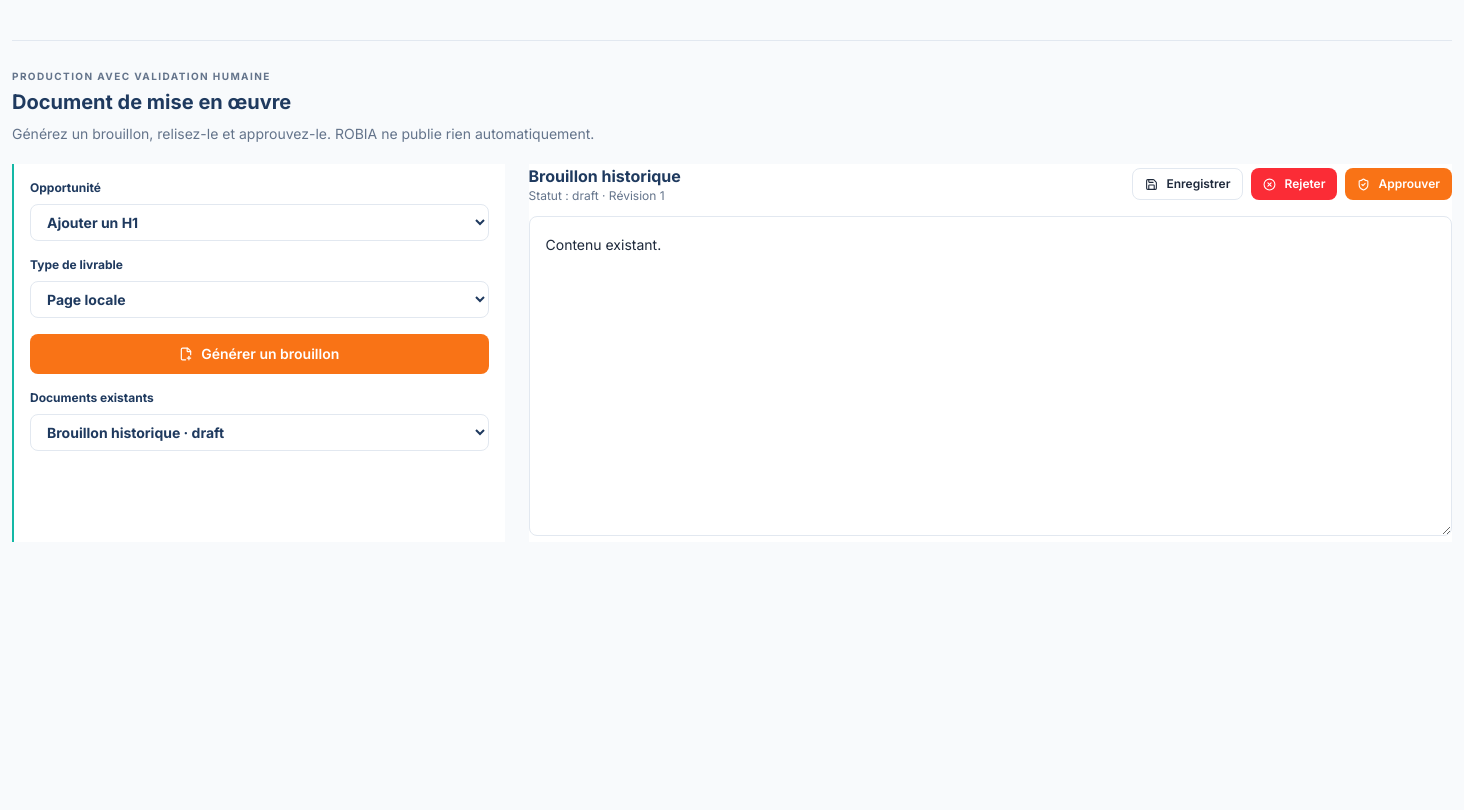
Scenario: DocumentWorkflow — migrated to revision-based saves › never validates the document on a 409 conflict
Replace the text in the text box showing "Contenu existant." with "Modifie en conflit.": (990, 376) x1=528 y1=216 x2=1452 y2=536
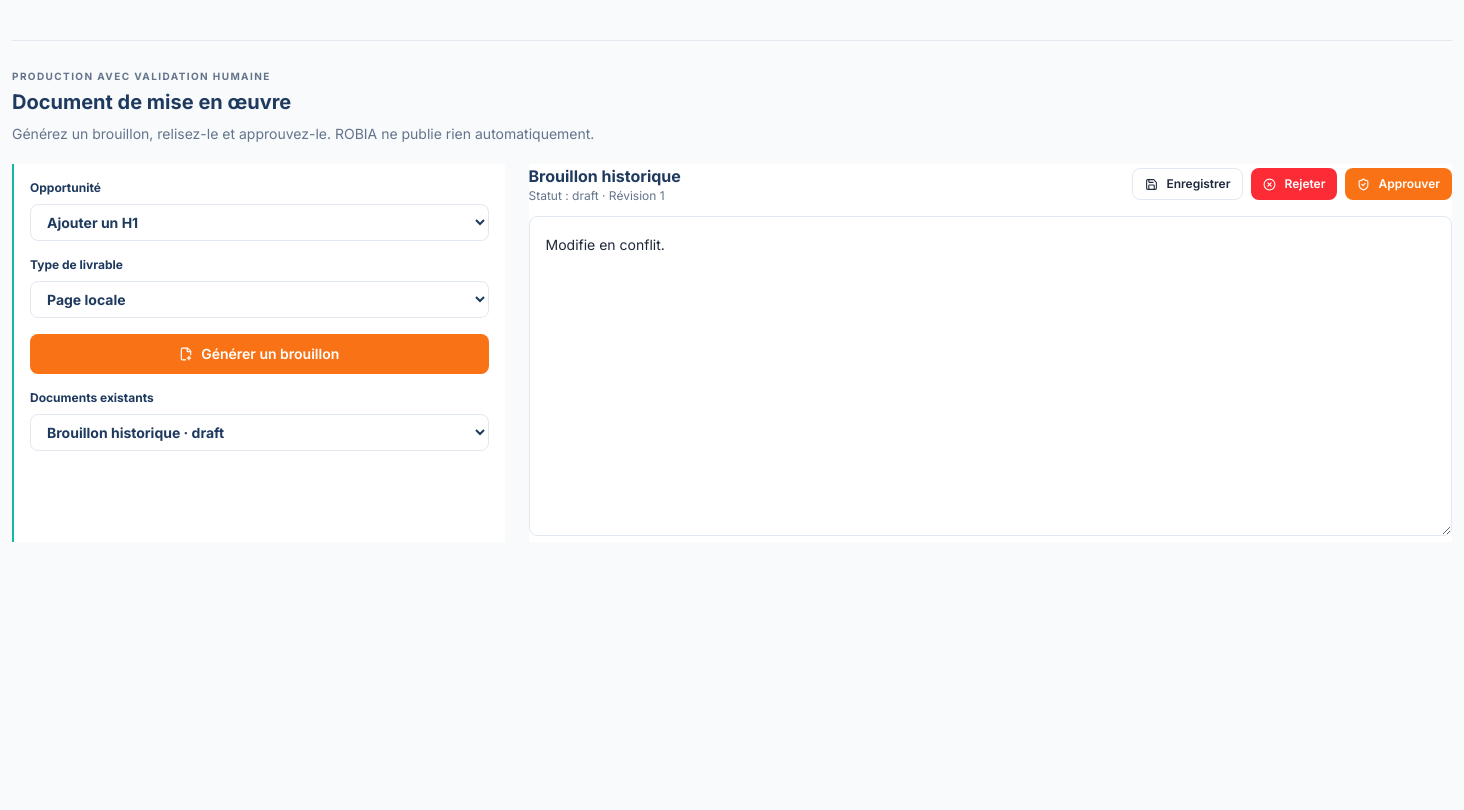
Click the button "Approuver": (1399, 184) x1=1346 y1=168 x2=1452 y2=200
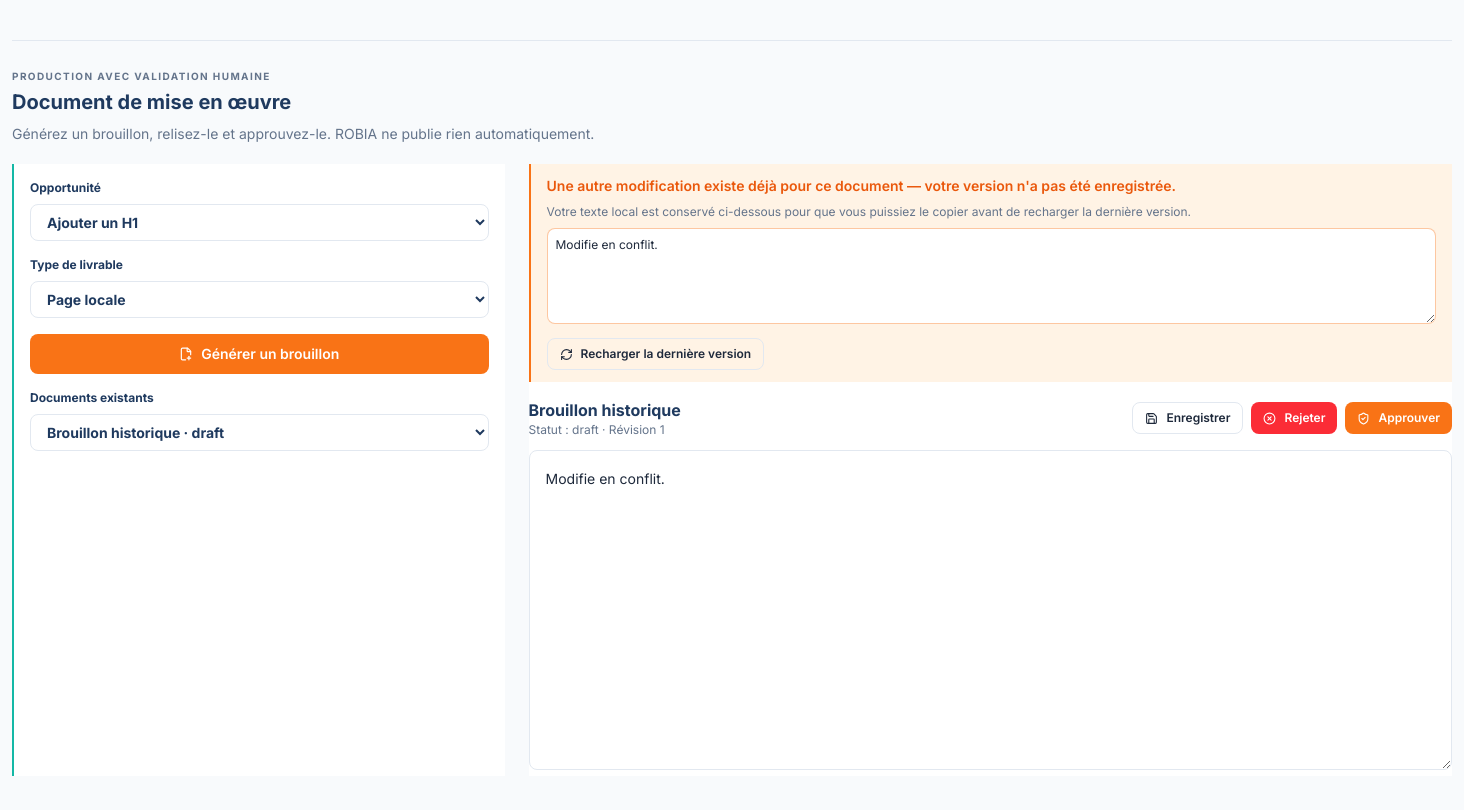
Result: the text "n'a pas été enregistrée" is shown at x1=546 y1=177 x2=1176 y2=194
